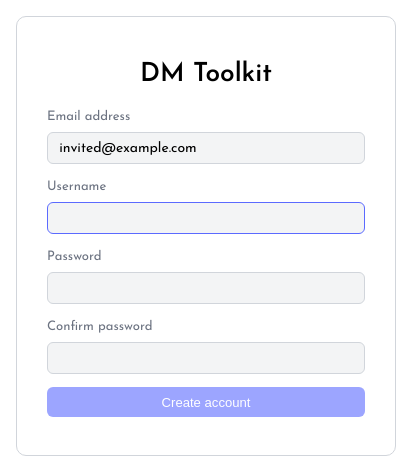
submit button enabled when all fields valid and matching
Step 1. Type "newgm" into the field labelled "Username" → (206, 218), box [47,202,365,234]
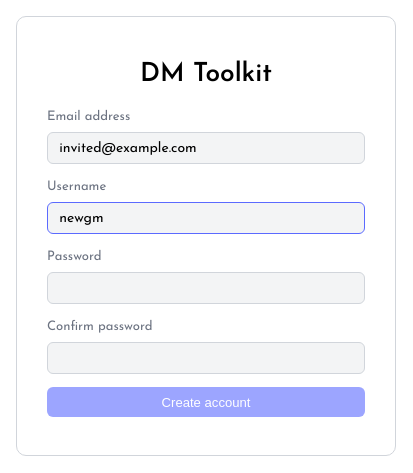
Step 2. Type "password123" into the password field labelled "Password" → (206, 288), box [47,272,365,304]
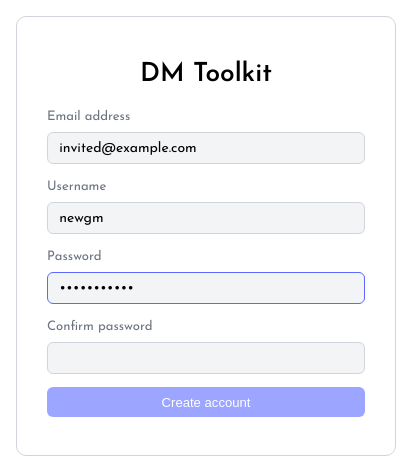
Step 3. Type "password123" into the password field labelled "Confirm password" → (206, 358), box [47,342,365,374]
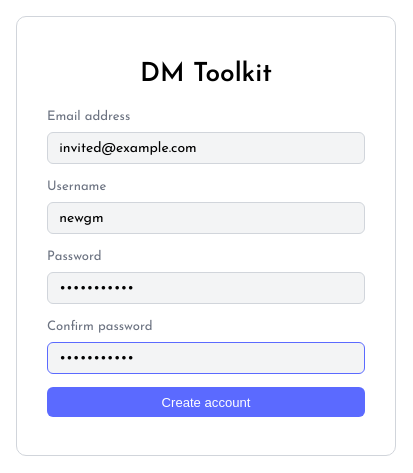
Expected: the button "Create account" is enabled, [47,387,365,417]
